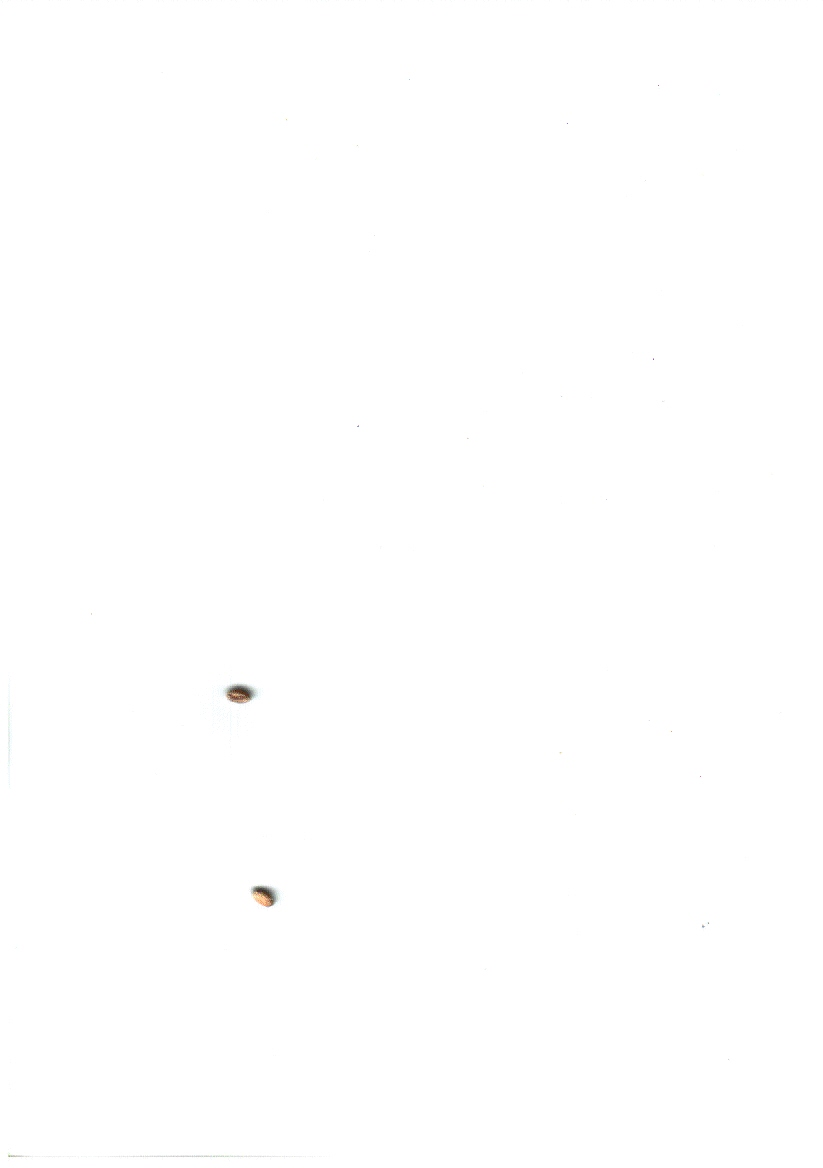grains: (237, 871, 289, 925), (219, 672, 260, 717)
